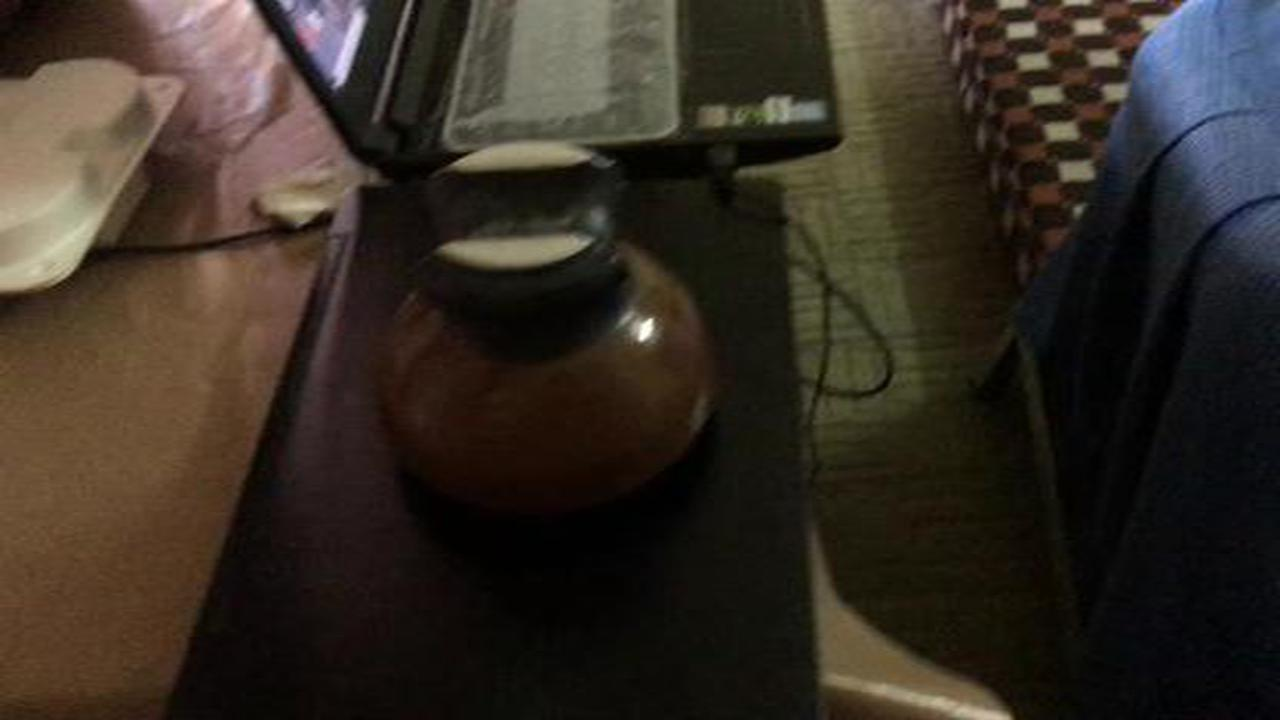insulator_pin: (348, 125, 754, 554)
